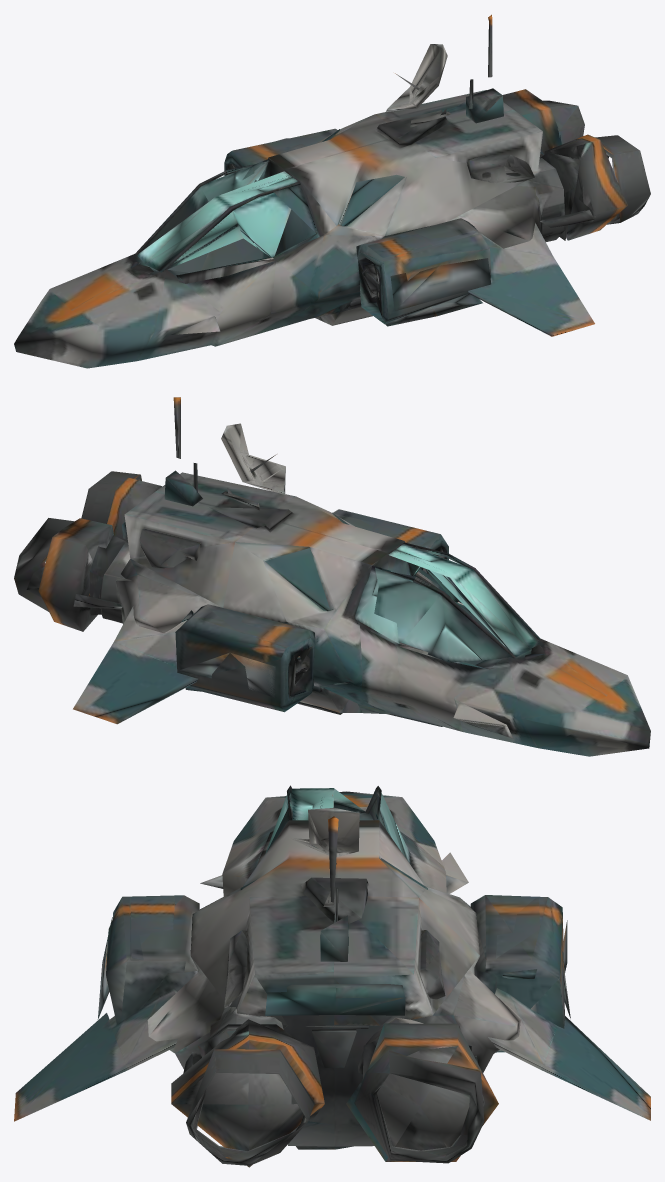
3 views of the same model, one above another, from view 1: azimuth 30°, elevation 25°; view 2: azimuth 150°, elevation 25°; view 3: azimuth 270°, elevation 25° (orthographic). The views are drawn at different scales.
Parts seen in each view (by area): view 1: mesh_node; view 2: mesh_node; view 3: mesh_node.
Boxes of the visible parts, left/top/right/bottom form: mesh_node: left=14, top=14, right=650, bottom=368; mesh_node: left=14, top=397, right=650, bottom=756; mesh_node: left=14, top=785, right=650, bottom=1167.
Bounding box in the file's own units: 2 × 0.8262 × 1.37.
1 material, 1 textured.
